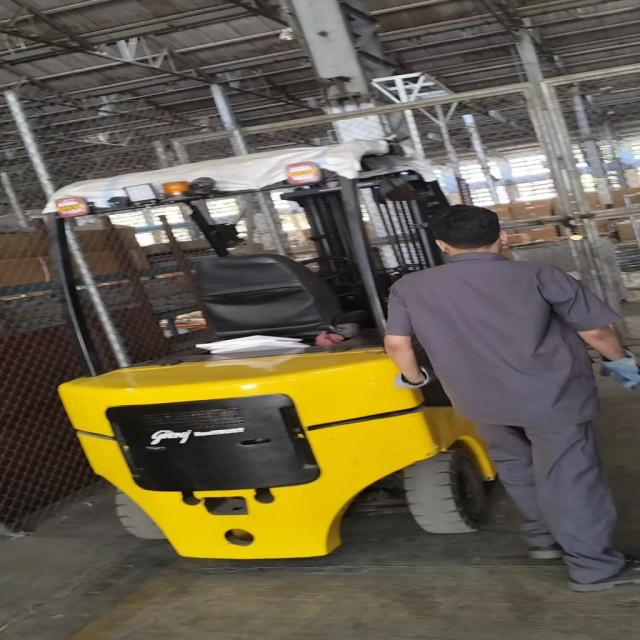Gloves-Detection: (599, 358, 640, 390), (398, 378, 432, 390)
